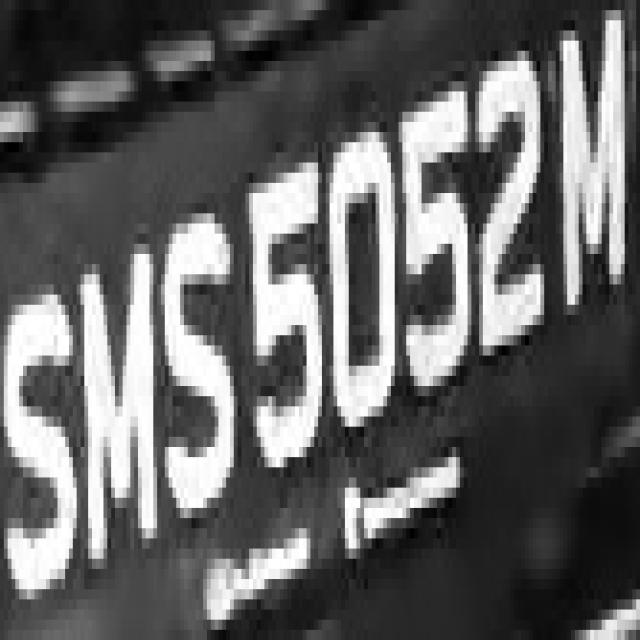0: (314, 112, 402, 467)
2: (475, 31, 556, 396)
5: (238, 132, 334, 498), (391, 71, 475, 457)
M: (65, 234, 176, 579), (555, 0, 640, 315)
S: (157, 183, 249, 538), (8, 244, 76, 630)
